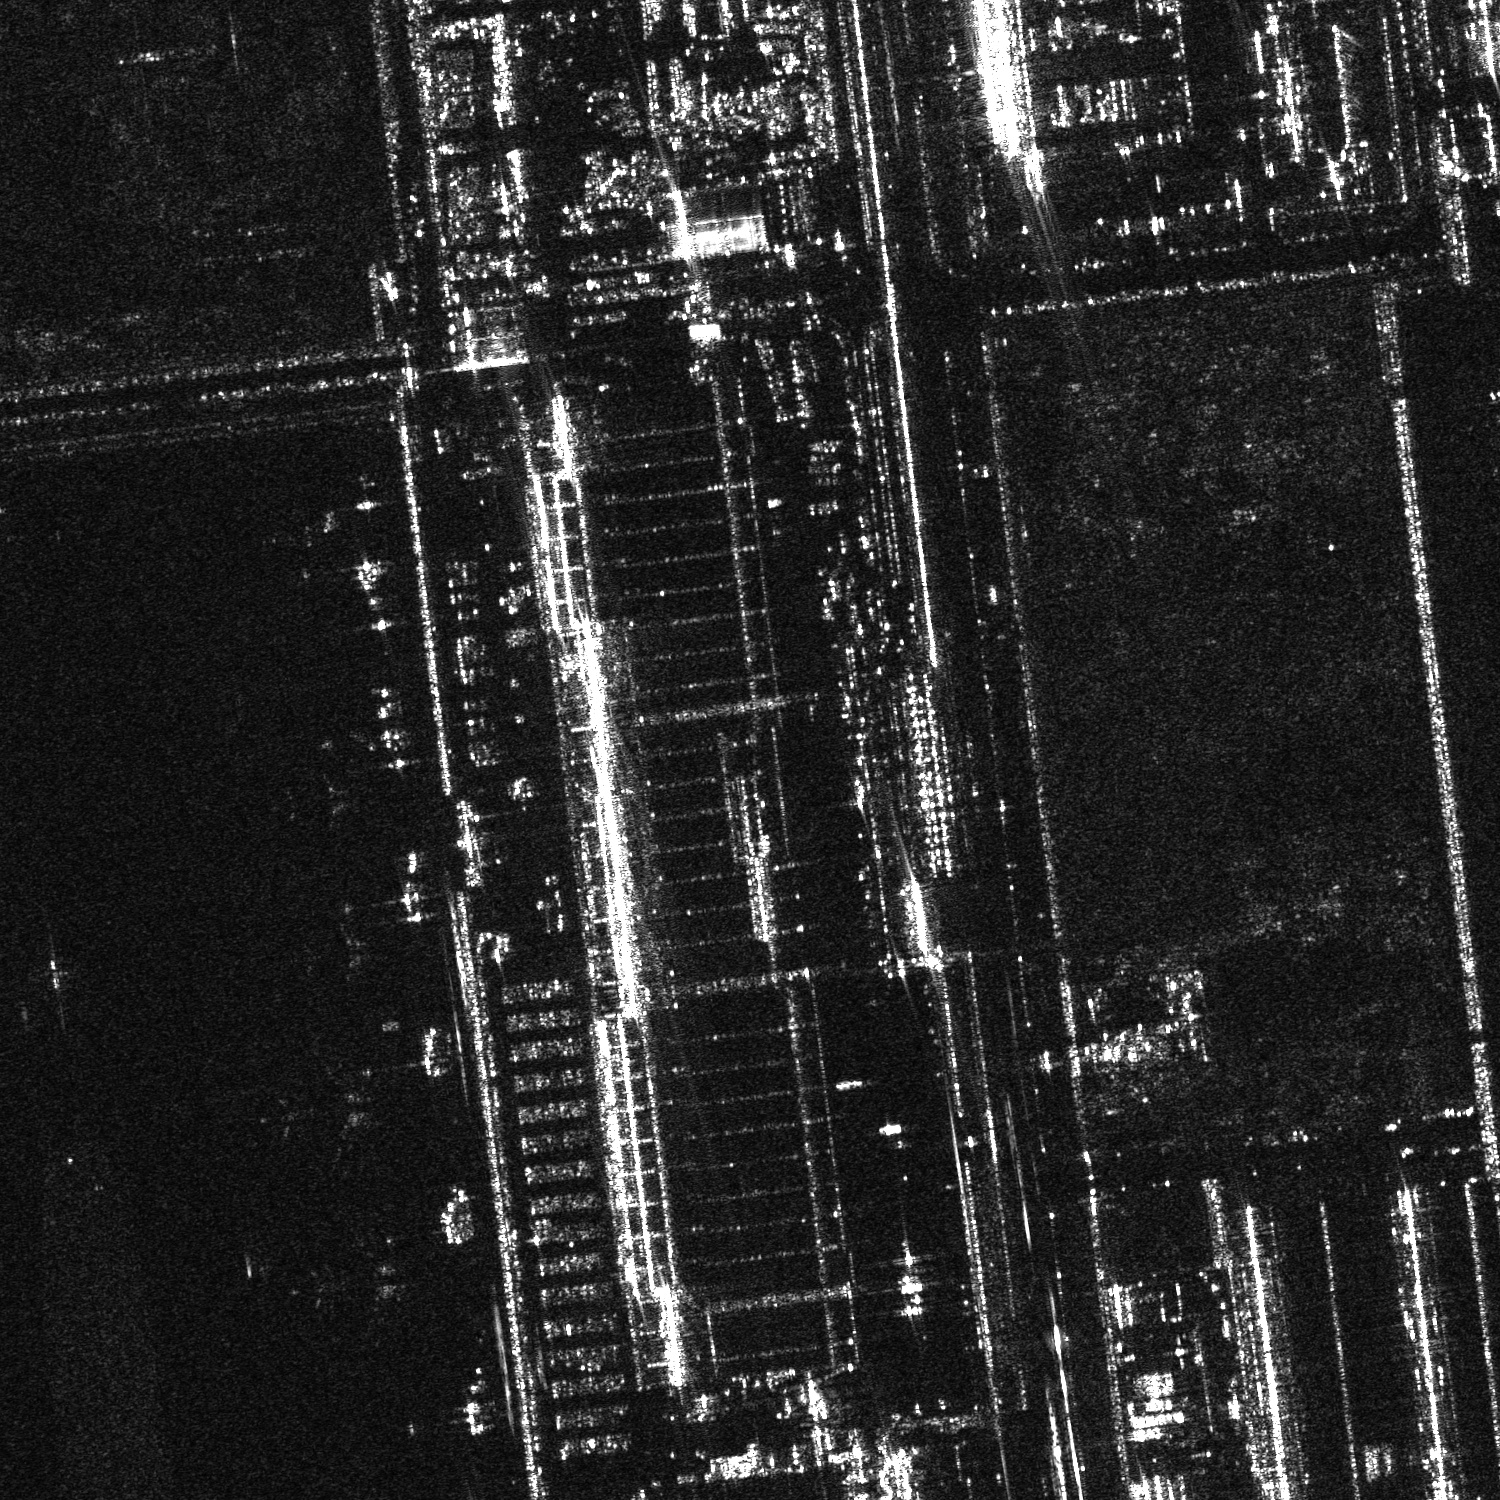Boeing787: (254, 1052, 387, 1177), (298, 1231, 420, 1339), (302, 909, 386, 982)
other: (1468, 383, 1499, 473)
